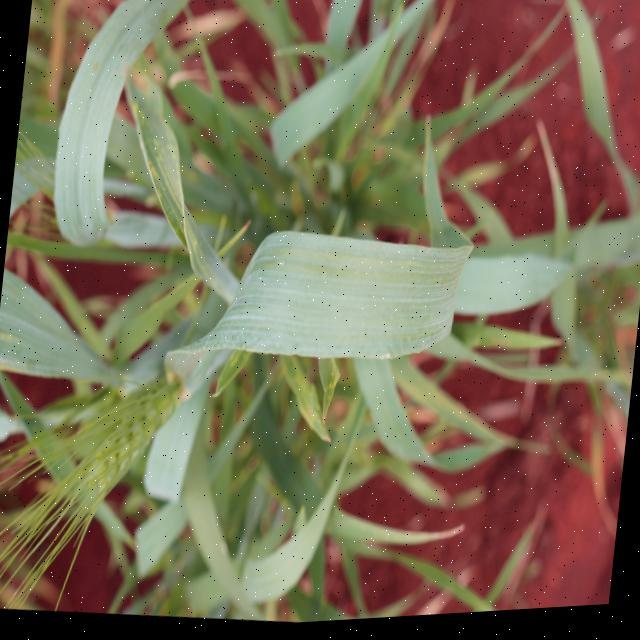healthy_wheat: (0, 357, 273, 633), (208, 158, 494, 411), (19, 0, 150, 322), (248, 0, 465, 184)
